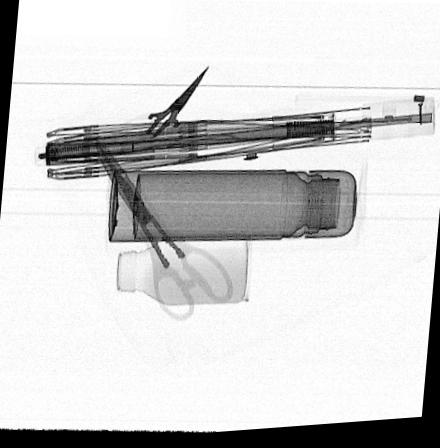Scissors: (94, 138, 235, 325), (117, 66, 210, 164)
